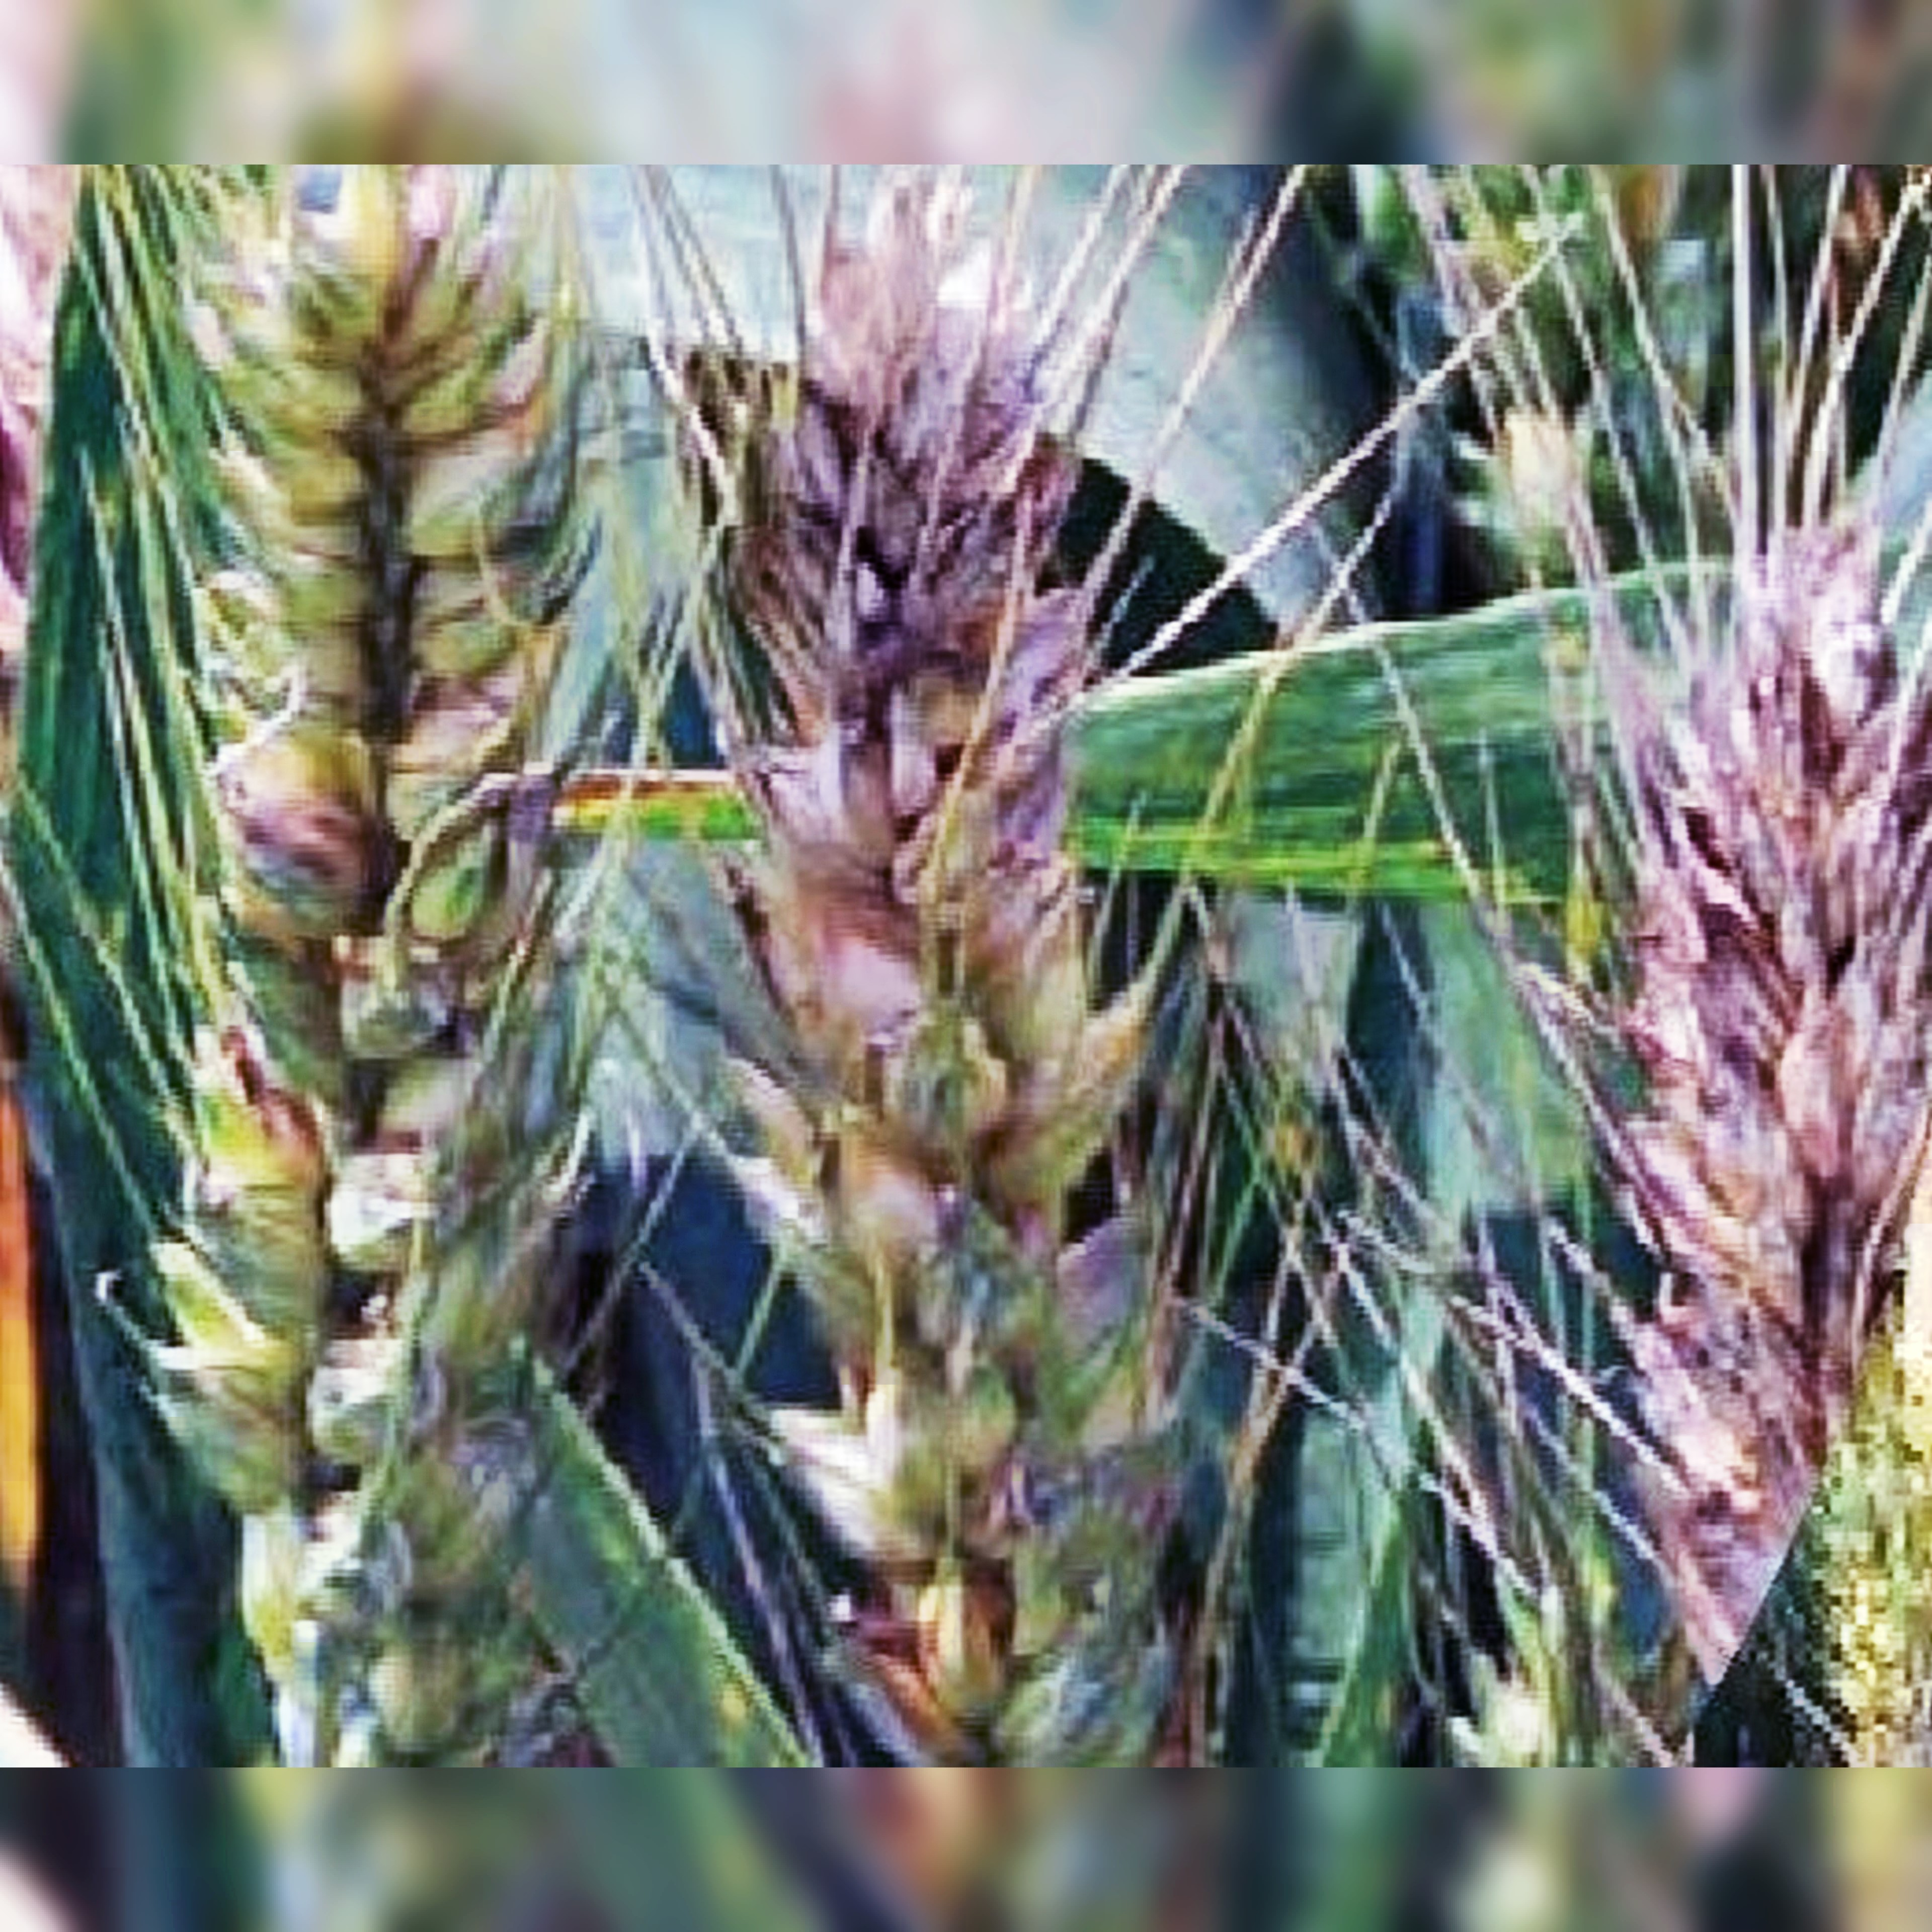Wheat scab: (163, 218, 520, 1752)
